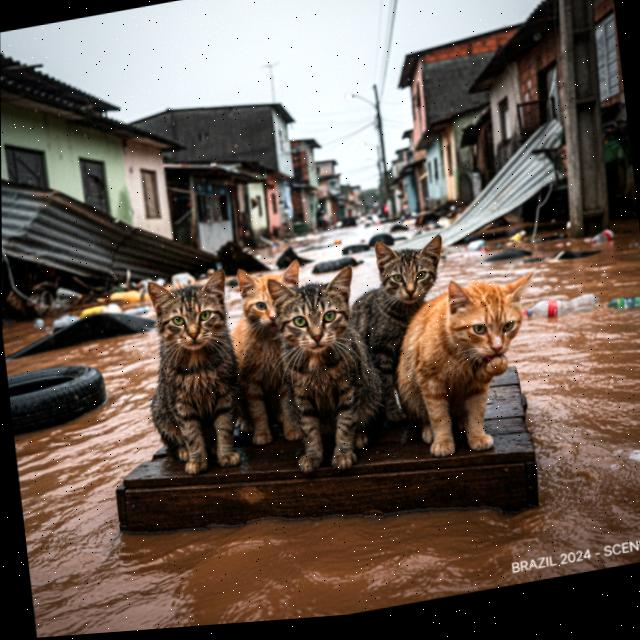cat: (385, 258, 554, 472), (260, 253, 399, 484), (134, 258, 255, 491), (345, 222, 463, 428), (223, 249, 320, 461)
